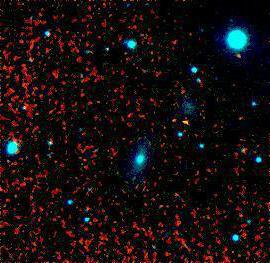star: (225, 42, 255, 72)
